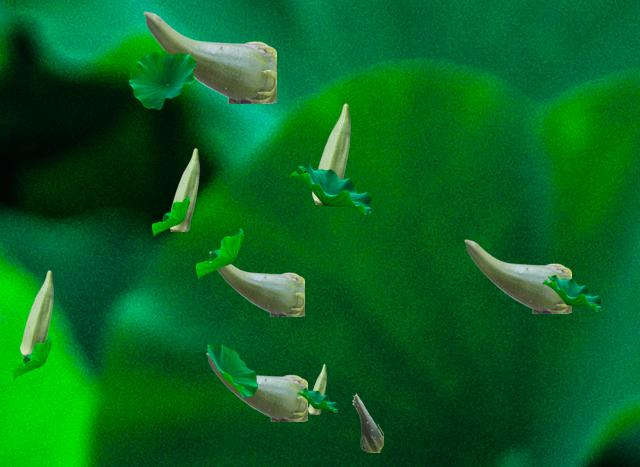okra: (143, 11, 275, 102), (464, 239, 570, 312), (206, 352, 306, 420), (209, 251, 303, 315), (312, 103, 349, 203), (20, 270, 52, 356), (170, 148, 198, 230), (352, 393, 382, 451), (308, 364, 325, 413)
